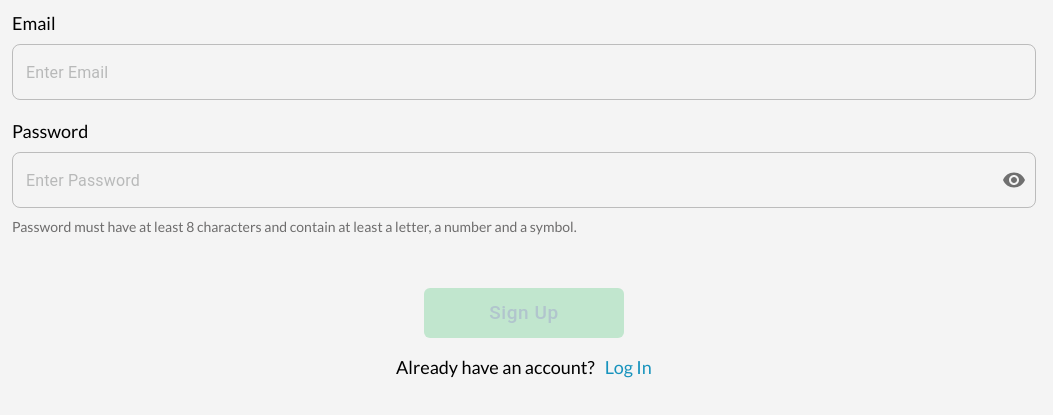
Test: AuthenticationForm › displays error for invalid email
In the field labelled "Email": coordinates (524, 72) [12,44,1036,100], type "invalidemail"
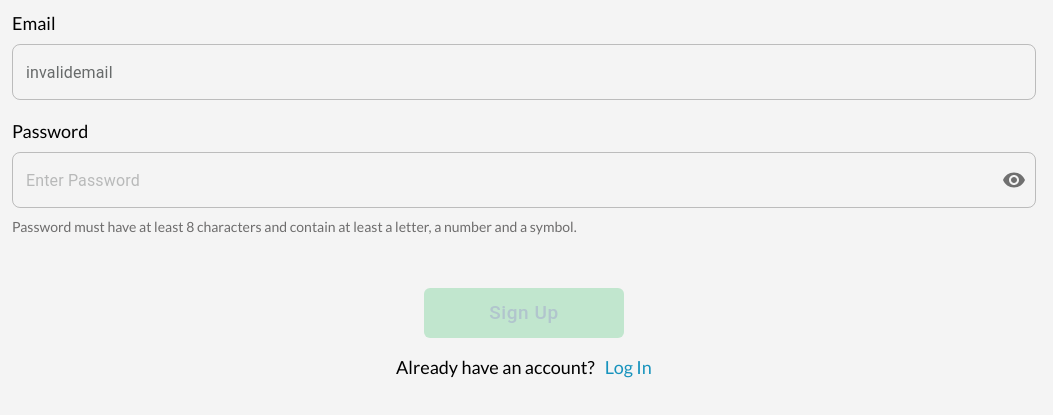
In the password field with test id "password-input": coordinates (499, 180) [12,152,986,208], type "invalidpassword"
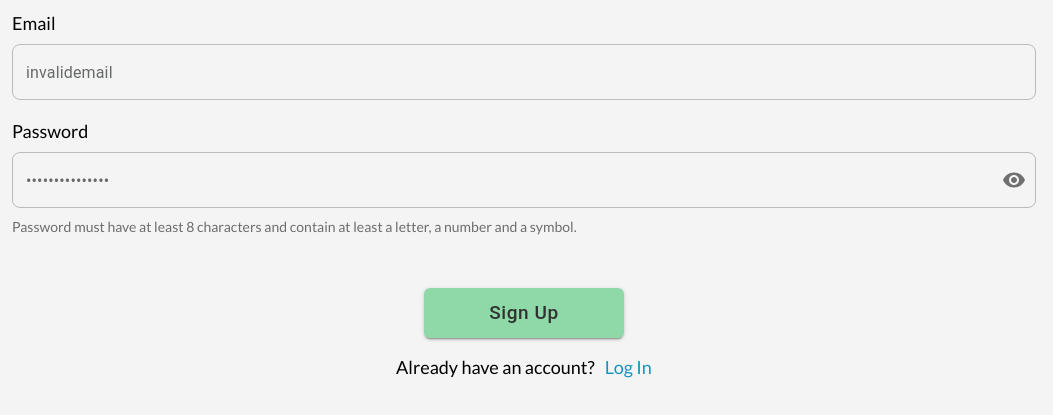
Click the button with test id "auth-submit-button": coordinates (524, 313) [424,288,624,338]
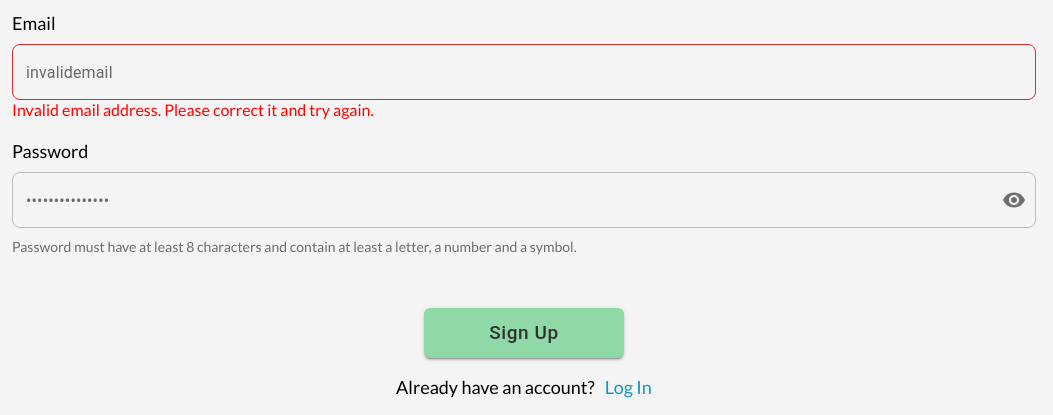
Expected: the text "Invalid email address. Please correct it and try again." is shown, [12,100,374,119]
